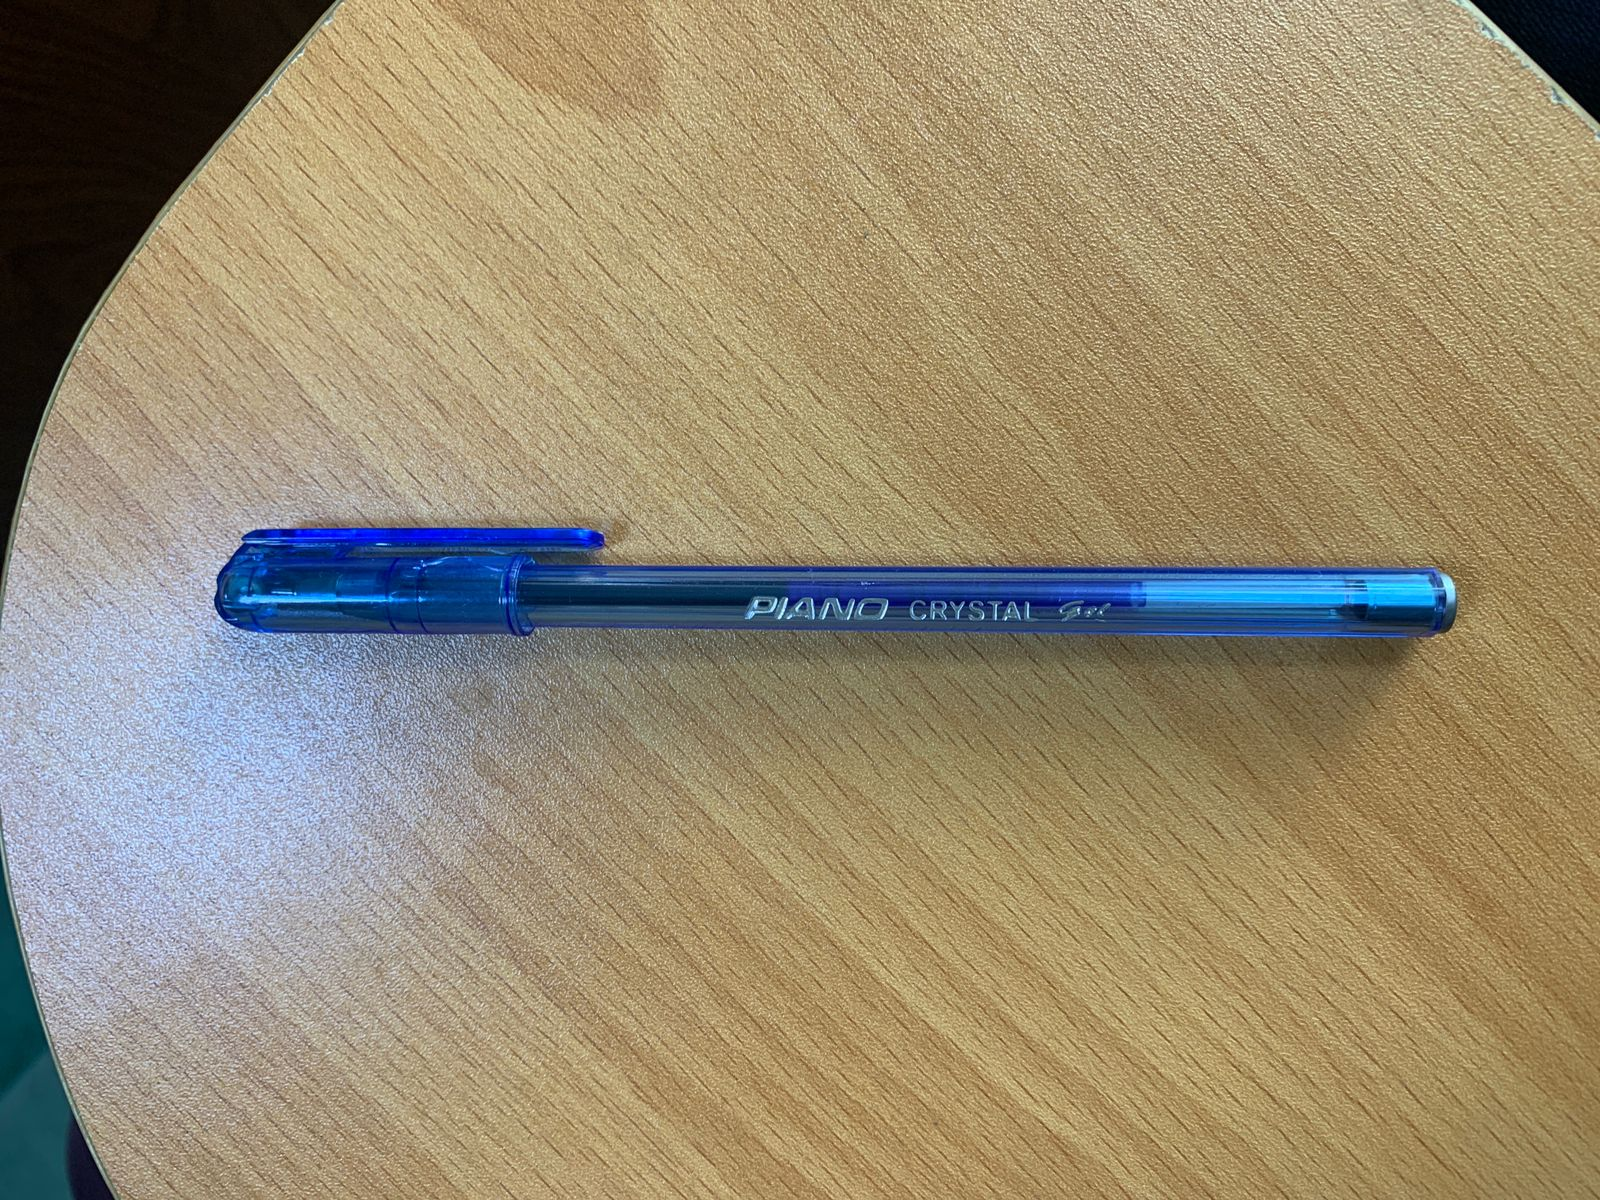pen: (111, 439, 1497, 760)
